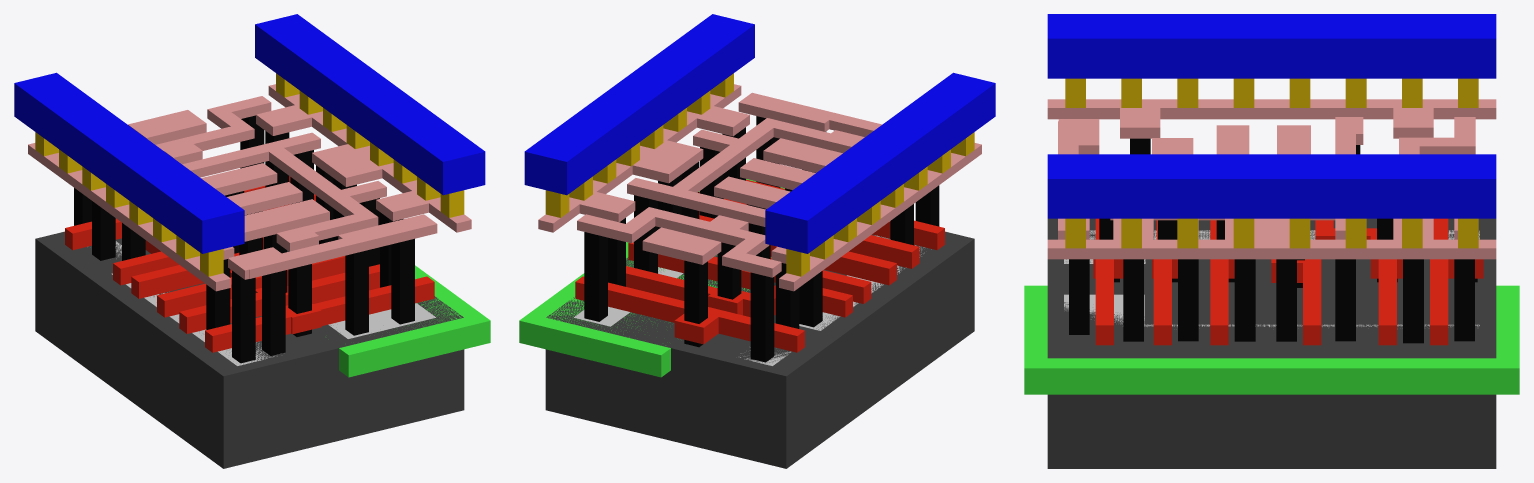
File: sky130_fd_sc_hd__and4b_1.obj
The picture shows the model from 3 angles, left to right: view 1: azimuth 30°, elevation 25°; view 2: azimuth 150°, elevation 25°; view 3: azimuth 270°, elevation 25°; orthographic projection. The views are drawn at different scales.
Visible parts, largest first — view 1: subs, metal1, li, licon, poly, nwell, mcon, tap, diff; view 2: subs, metal1, li, licon, poly, nwell, mcon, diff, tap; view 3: metal1, subs, li, nwell, licon, poly, mcon, tap.
Boxes of the visible parts, x1=… form: subs: x1=35, y1=231, x2=464, y2=468; metal1: x1=14, y1=14, x2=485, y2=253; li: x1=28, y1=84, x2=471, y2=291; licon: x1=74, y1=115, x2=414, y2=363; poly: x1=65, y1=176, x2=434, y2=352; nwell: x1=339, y1=265, x2=490, y2=377; mcon: x1=35, y1=73, x2=464, y2=276; tap: x1=328, y1=303, x2=435, y2=338; diff: x1=111, y1=241, x2=277, y2=365; subs: x1=545, y1=231, x2=974, y2=468; metal1: x1=524, y1=14, x2=995, y2=253; li: x1=538, y1=84, x2=981, y2=291; licon: x1=584, y1=116, x2=939, y2=362; poly: x1=575, y1=179, x2=944, y2=352; nwell: x1=519, y1=179, x2=784, y2=377; mcon: x1=545, y1=73, x2=974, y2=276; diff: x1=740, y1=235, x2=931, y2=365; tap: x1=574, y1=267, x2=683, y2=326; metal1: x1=1047, y1=14, x2=1496, y2=218; subs: x1=1047, y1=218, x2=1496, y2=468; li: x1=1047, y1=99, x2=1496, y2=259; nwell: x1=1024, y1=285, x2=1519, y2=394; licon: x1=1069, y1=138, x2=1477, y2=343; poly: x1=1093, y1=218, x2=1483, y2=345; mcon: x1=1065, y1=78, x2=1478, y2=248; tap: x1=1064, y1=294, x2=1479, y2=326.
Bounding box in the file's own units: 3.2 × 2.74 × 4.06.
